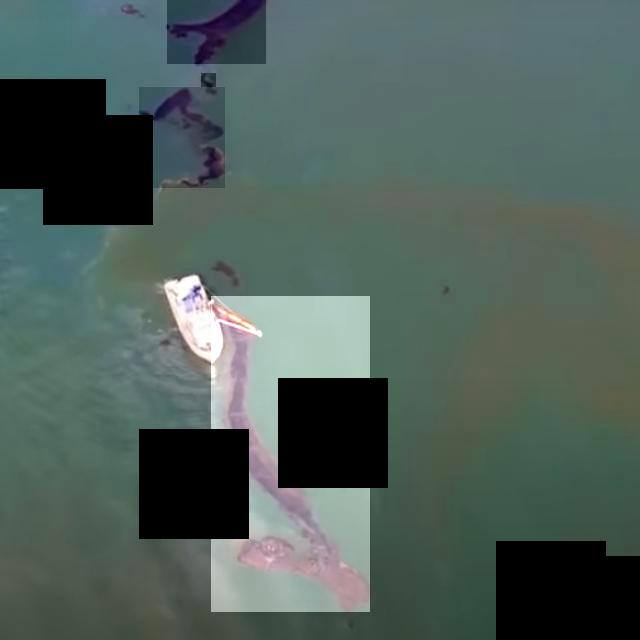oil spill: (211, 296, 370, 612), (139, 87, 225, 188), (167, 0, 266, 64), (201, 74, 216, 93)
